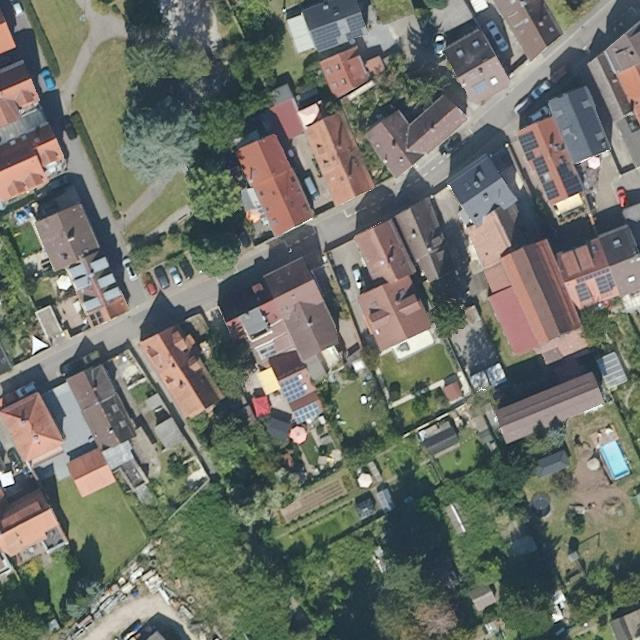PV: (529, 152, 562, 204), (555, 161, 586, 199), (514, 127, 542, 164), (310, 21, 343, 52), (277, 376, 307, 404), (290, 400, 322, 426), (344, 13, 368, 43), (576, 266, 613, 284), (592, 273, 620, 296), (572, 281, 594, 304)
